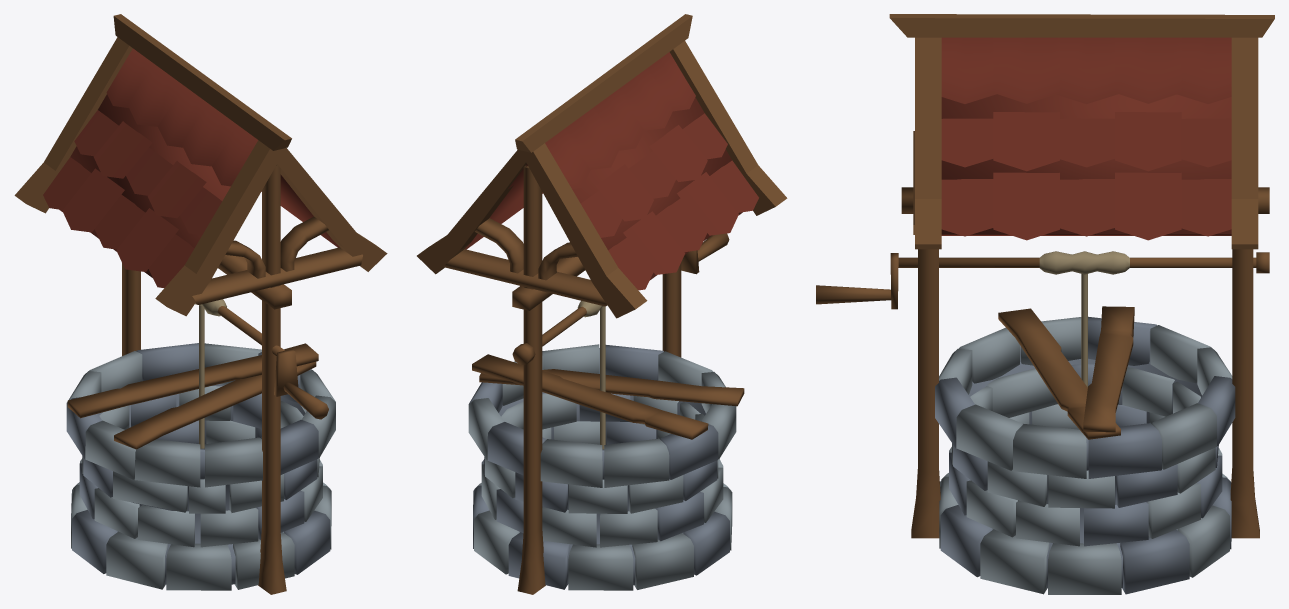
The model's file is well_lev2.glb.
3 views of the same model, side by side, from view 1: azimuth 30°, elevation 25°; view 2: azimuth 150°, elevation 25°; view 3: azimuth 270°, elevation 25° (orthographic). The views are drawn at different scales.
Parts seen in each view (by area): view 1: well_lev2; view 2: well_lev2; view 3: well_lev2.
Part boxes in pixels (x1=…): well_lev2: x1=14, y1=14, x2=387, y2=594; well_lev2: x1=417, y1=14, x2=787, y2=594; well_lev2: x1=816, y1=14, x2=1274, y2=594.
Bounding box in the file's own units: 1.67 × 3.13 × 2.51.
